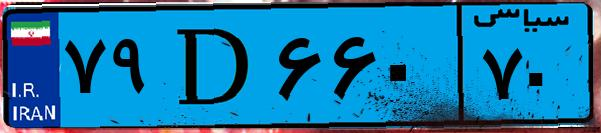0: (385, 28, 445, 110), (525, 38, 570, 115)
6: (270, 28, 330, 110), (330, 28, 385, 110)
7: (57, 26, 110, 100), (475, 38, 525, 113)
9: (110, 28, 158, 98)
D: (158, 12, 270, 120)
